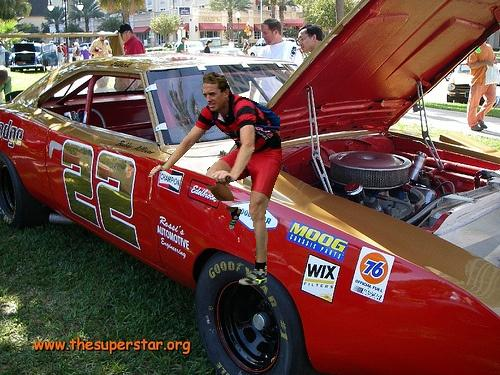tampered: (149, 73, 282, 285)
